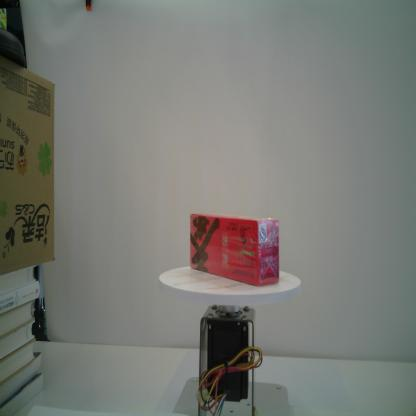Instant Drink: (189, 213, 281, 288)
